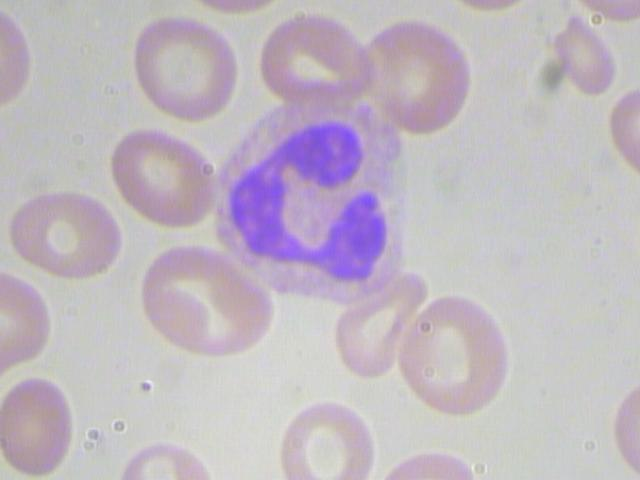RBC: (141, 240, 275, 366), (398, 290, 519, 416), (354, 20, 485, 134), (125, 15, 247, 124), (105, 122, 227, 231), (321, 271, 431, 378), (256, 1, 369, 104), (1, 189, 120, 278), (276, 394, 388, 479), (1, 373, 86, 480), (539, 12, 624, 95)
